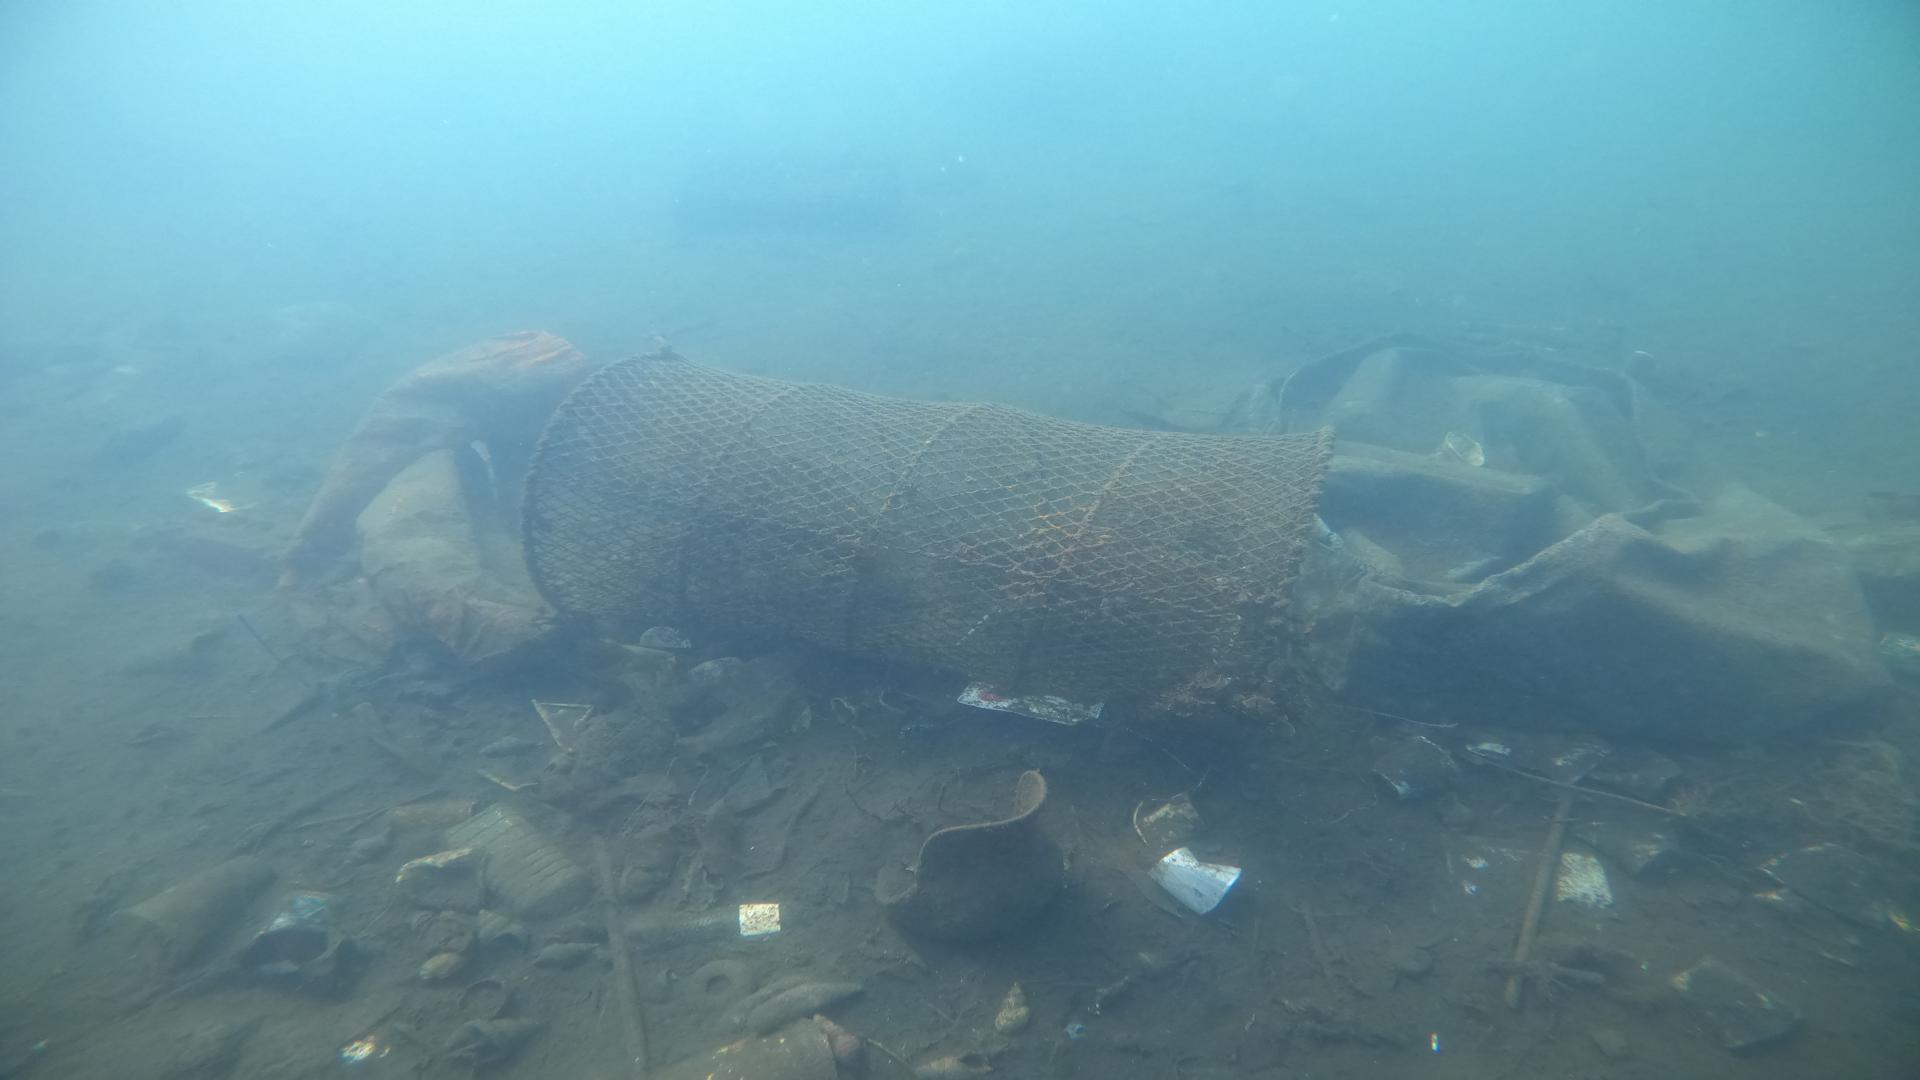spring fish trap: (513, 349, 1340, 740)
